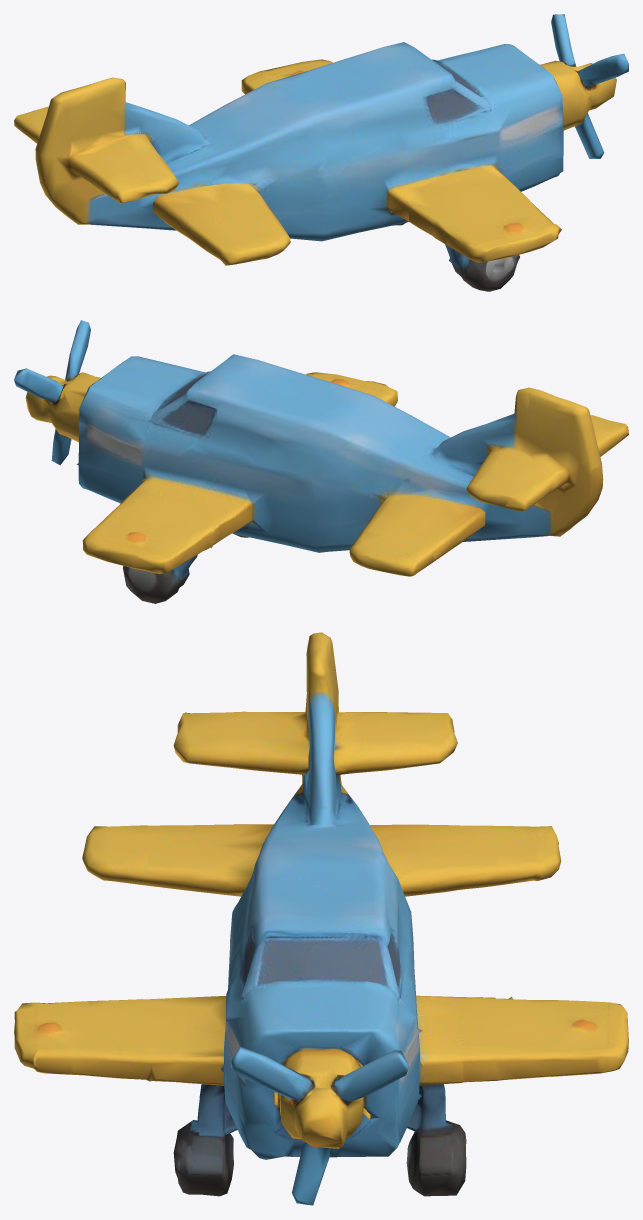
File: airplane.glb
3 views of the same model, one above another, from view 1: azimuth 30°, elevation 25°; view 2: azimuth 150°, elevation 25°; view 3: azimuth 270°, elevation 25° (orthographic). The views are drawn at different scales.
Visible parts, largest first — view 1: tripo_node_82df9453-c1e5-4202-ad6f-f2267aad1633; view 2: tripo_node_82df9453-c1e5-4202-ad6f-f2267aad1633; view 3: tripo_node_82df9453-c1e5-4202-ad6f-f2267aad1633.
Part boxes in pixels (bbox=[...]): tripo_node_82df9453-c1e5-4202-ad6f-f2267aad1633: bbox=[14, 14, 628, 291]; tripo_node_82df9453-c1e5-4202-ad6f-f2267aad1633: bbox=[14, 320, 628, 603]; tripo_node_82df9453-c1e5-4202-ad6f-f2267aad1633: bbox=[14, 632, 628, 1205].
Size of the model in its own units: 1 by 0.4261 by 0.725.
1 material, 1 textured.
